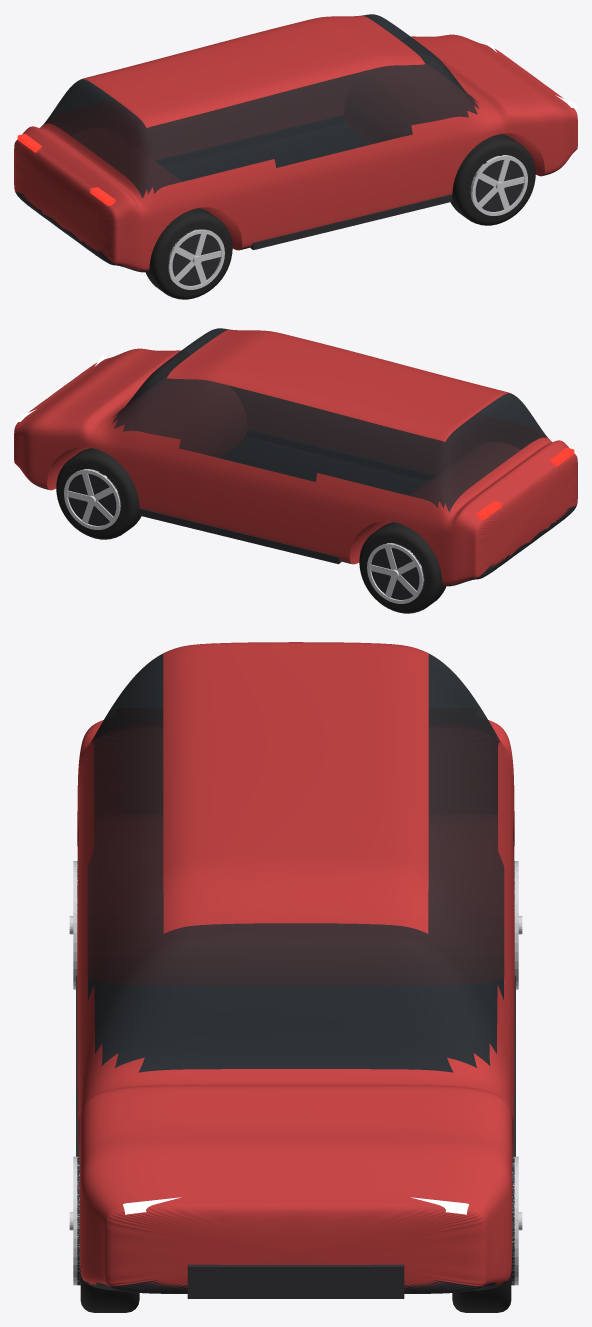
File: suv.glb
3 renders of one model, top to bottom at view 1: azimuth 30°, elevation 25°; view 2: azimuth 150°, elevation 25°; view 3: azimuth 270°, elevation 25°, orthographic. The views are drawn at different scales.
Parts seen in each view (by area): view 1: Body, Cylinder.012, Cylinder.004, Cube.030, Cube.029, Cylinder.005, Cylinder.013, Cylinder.014, Cylinder.006; view 2: Body, Cylinder.008, Cylinder, Cube.029, Cylinder.001, Cube.030, Cylinder.009, Cylinder.002, Cylinder.010; view 3: Body, Cube.028, Cylinder.008, Cylinder.012.
Part boxes in pixels (bbox=[...]): Body: bbox=[14, 14, 577, 272]; Cylinder.012: bbox=[450, 134, 535, 225]; Cylinder.004: bbox=[145, 208, 232, 299]; Cube.030: bbox=[251, 194, 452, 250]; Cube.029: bbox=[156, 115, 344, 166]; Cylinder.005: bbox=[167, 229, 220, 285]; Cylinder.013: bbox=[474, 155, 523, 211]; Cylinder.014: bbox=[470, 155, 527, 215]; Cylinder.006: bbox=[168, 229, 224, 289]; Body: bbox=[14, 328, 577, 586]; Cylinder.008: bbox=[56, 448, 141, 539]; Cylinder: bbox=[359, 522, 446, 613]; Cube.029: bbox=[139, 508, 340, 564]; Cylinder.001: bbox=[371, 543, 424, 599]; Cube.030: bbox=[247, 429, 435, 480]; Cylinder.009: bbox=[68, 469, 121, 525]; Cylinder.002: bbox=[367, 543, 424, 603]; Cylinder.010: bbox=[64, 469, 120, 529]; Body: bbox=[77, 642, 514, 1293]; Cube.028: bbox=[187, 1264, 404, 1298]; Cylinder.008: bbox=[452, 1274, 511, 1312]; Cylinder.012: bbox=[80, 1274, 139, 1312].
Size of the model in its own units: 5.02 by 1.76 by 2.07.
